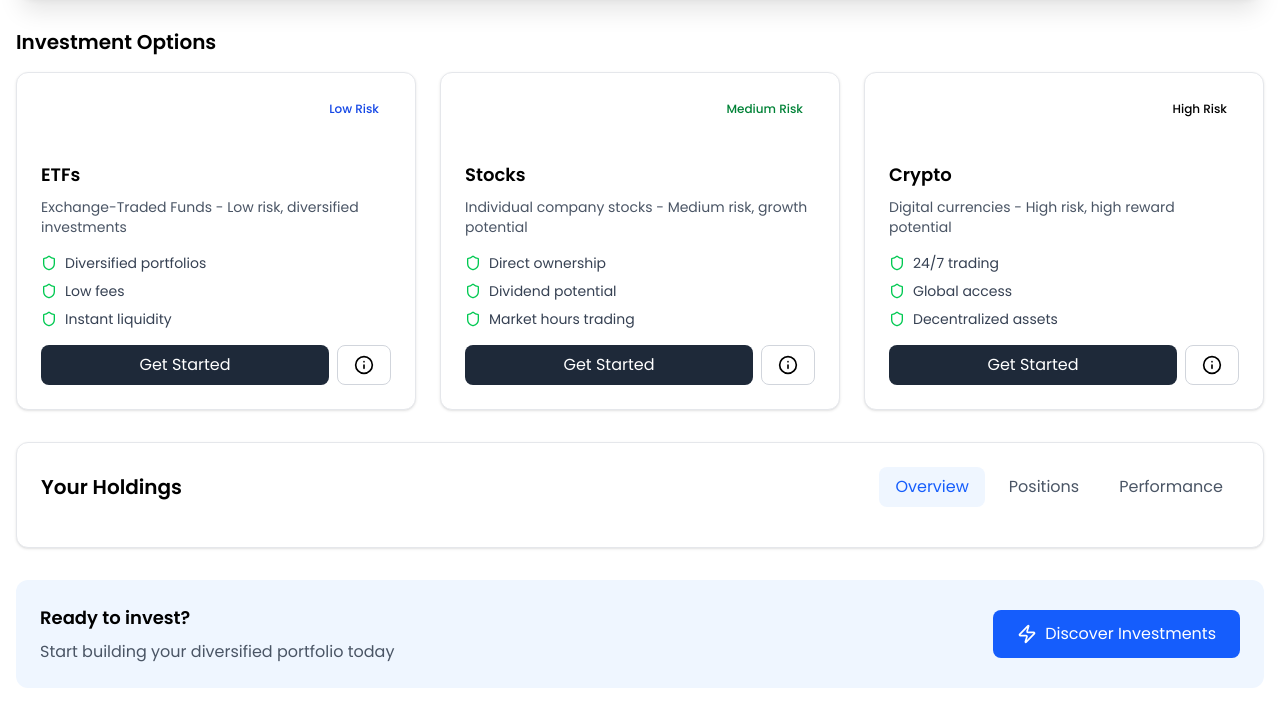
Test: InvestmentsPage › shows positions in the holdings table
The width and height of the screenshot is (1280, 704).
(page scrolled)
Check: the heading "Your Holdings" is shown, box [41,473,182,501]
Click the button "Positions" at (1044, 487), box [993,467,1095,507]
(page scrolled)
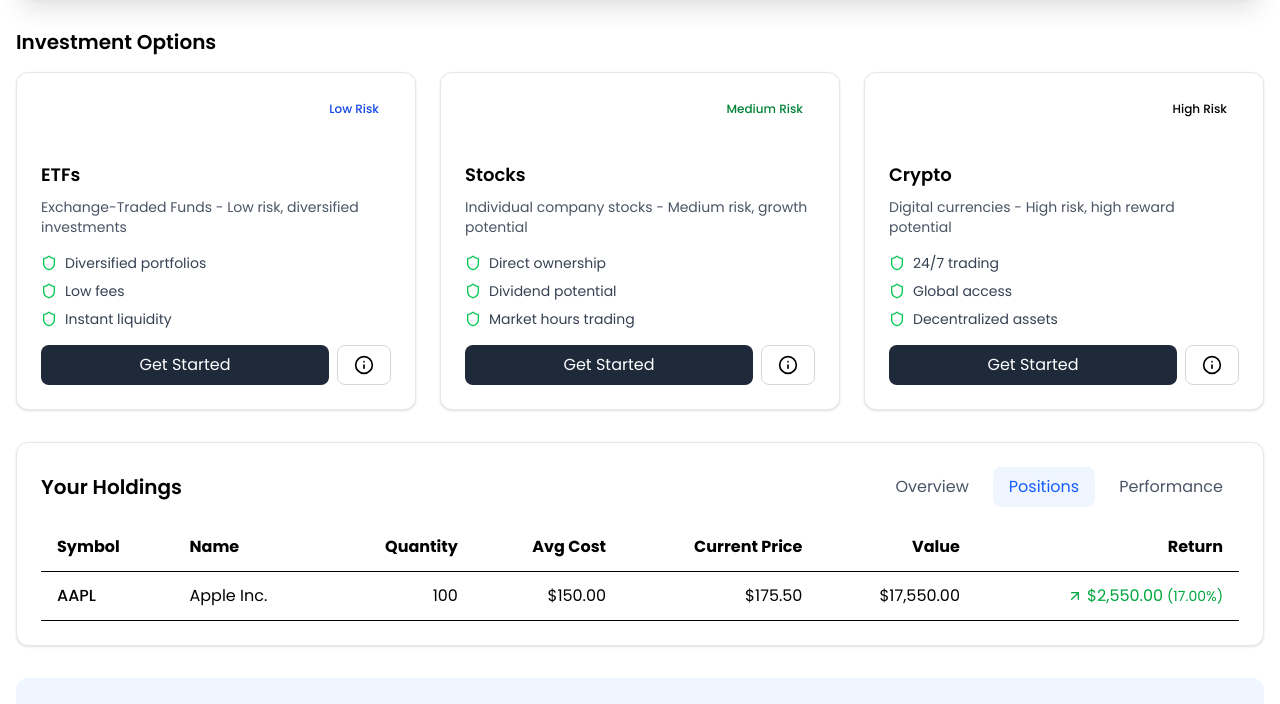
Check: the text "AAPL" is shown, box [41,572,174,620]
Check: the text "Apple Inc." is shown, box [174,572,327,620]
Check: the text "$175.50" is shown, box [622,572,818,620]
